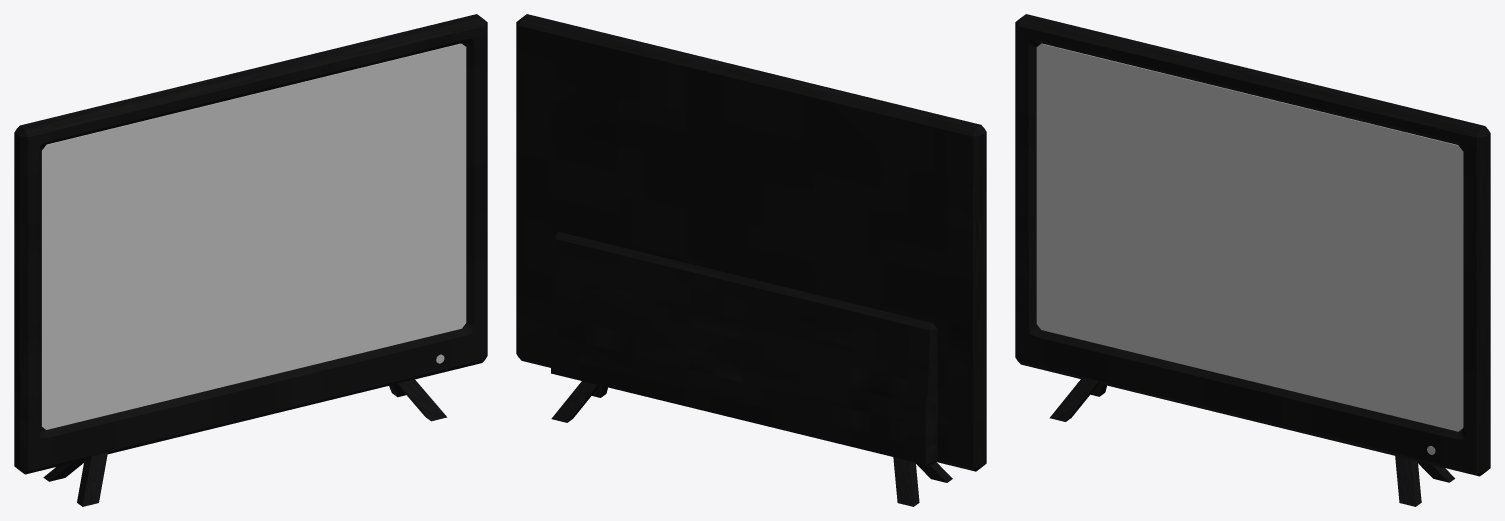
Rendered from TV-UVOK.fbx.
3 views of the same model, side by side, from view 1: azimuth 30°, elevation 25°; view 2: azimuth 150°, elevation 25°; view 3: azimuth 330°, elevation 25° (orthographic).
Parts seen in each view (by area): view 1: pasted__pCube1, pCube1, pCube3, pasted__pCube4; view 2: pCube1, pCube2, pCube4, pasted__pCube3; view 3: pasted__pCube1, pCube1, pasted__pCube4, pCube3.
Part boxes in pixels (left/top/right/bottom): pasted__pCube1: left=41, top=43, right=466, bottom=429; pCube1: left=14, top=14, right=487, bottom=474; pCube3: left=77, top=452, right=107, bottom=506; pasted__pCube4: left=397, top=379, right=447, bottom=421; pCube1: left=516, top=14, right=986, bottom=471; pCube2: left=551, top=232, right=937, bottom=464; pCube4: left=893, top=457, right=919, bottom=506; pasted__pCube3: left=551, top=381, right=599, bottom=422; pasted__pCube1: left=1036, top=43, right=1463, bottom=431; pCube1: left=1015, top=14, right=1490, bottom=476; pasted__pCube4: left=1395, top=455, right=1421, bottom=506; pCube3: left=1049, top=377, right=1098, bottom=421.
Bounding box in the file's own units: 1.15 × 0.8868 × 0.168.
